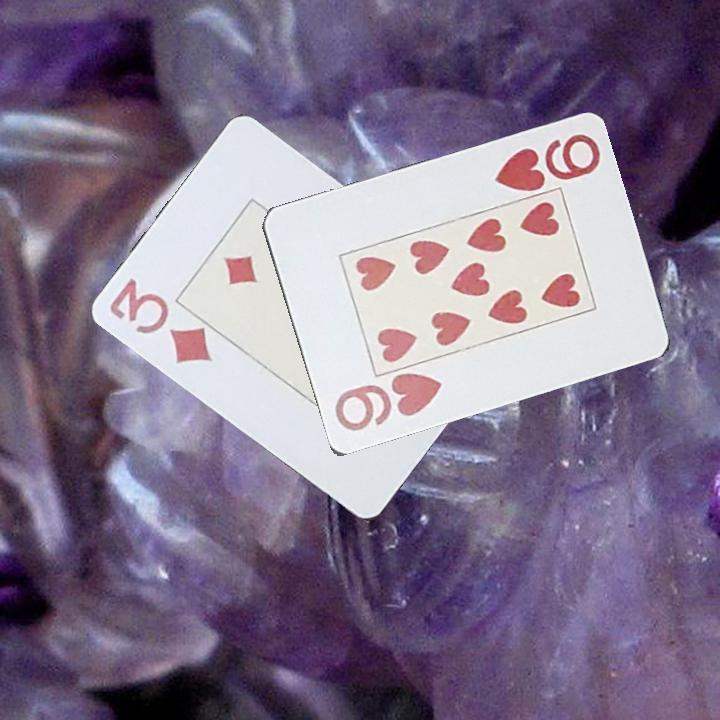3d: (106, 274, 217, 368)
9h: (330, 369, 445, 435), (490, 130, 603, 195)
